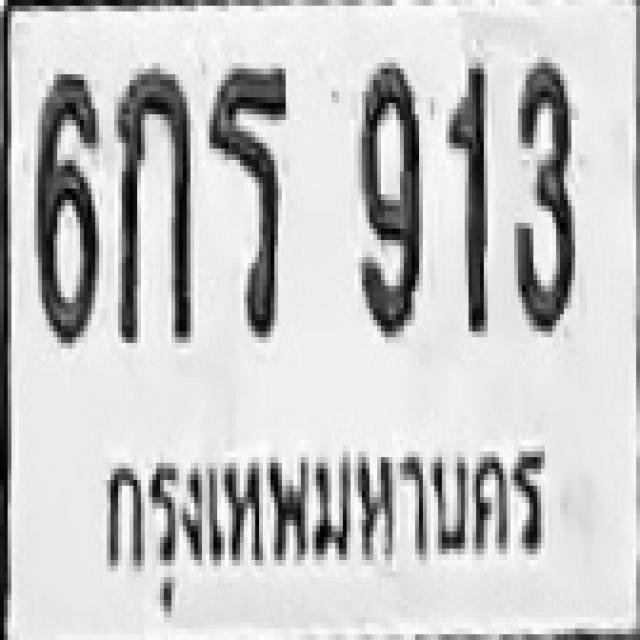1: (446, 60, 488, 334)
10GorGai: (114, 63, 190, 343)
3: (508, 54, 574, 329)
44RorRuea: (208, 63, 288, 331)
6: (34, 68, 99, 343)
9: (354, 57, 419, 332)
Bangkok: (90, 432, 546, 620)
